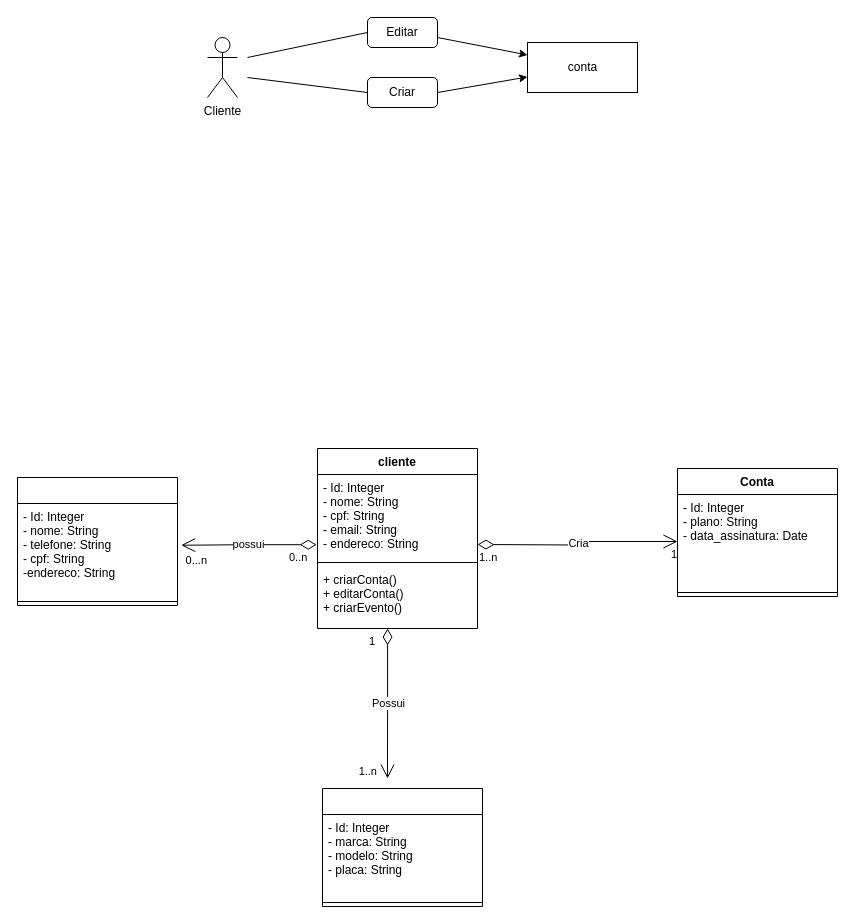
This 855x924 diagram has some shape labels left out. Each missing label, with the box of its shape:
terceiro: (16, 476, 178, 606)
Veiculo: (322, 788, 482, 906)
